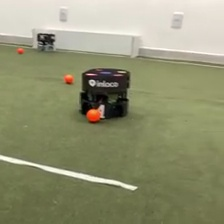ball: (85, 106, 102, 125), (62, 72, 75, 84), (16, 47, 25, 54)
goal: (31, 26, 141, 59)
robot: (77, 64, 132, 121), (35, 31, 57, 53)
